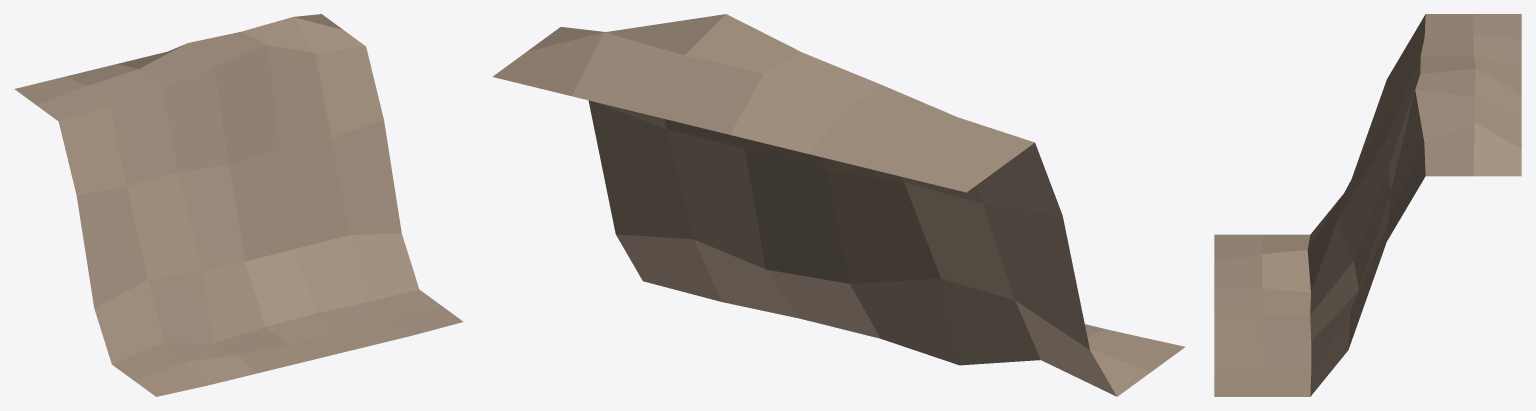
The model's file is Groborchik_RiverBank_4m_2.fbx.
The picture shows the model from 3 angles, left to right: view 1: azimuth 30°, elevation 25°; view 2: azimuth 150°, elevation 25°; view 3: azimuth 270°, elevation 25°; orthographic projection. The views are drawn at different scales.
Visible parts, largest first — view 1: 4m_2; view 2: 4m_2; view 3: 4m_2.
Part boxes in pixels (box(x1,y1,x2,y2)): 4m_2: box(14, 14, 463, 396); 4m_2: box(492, 14, 1184, 396); 4m_2: box(1214, 14, 1521, 396).
Size of the model in its own units: 1000 by 739 by 800.
